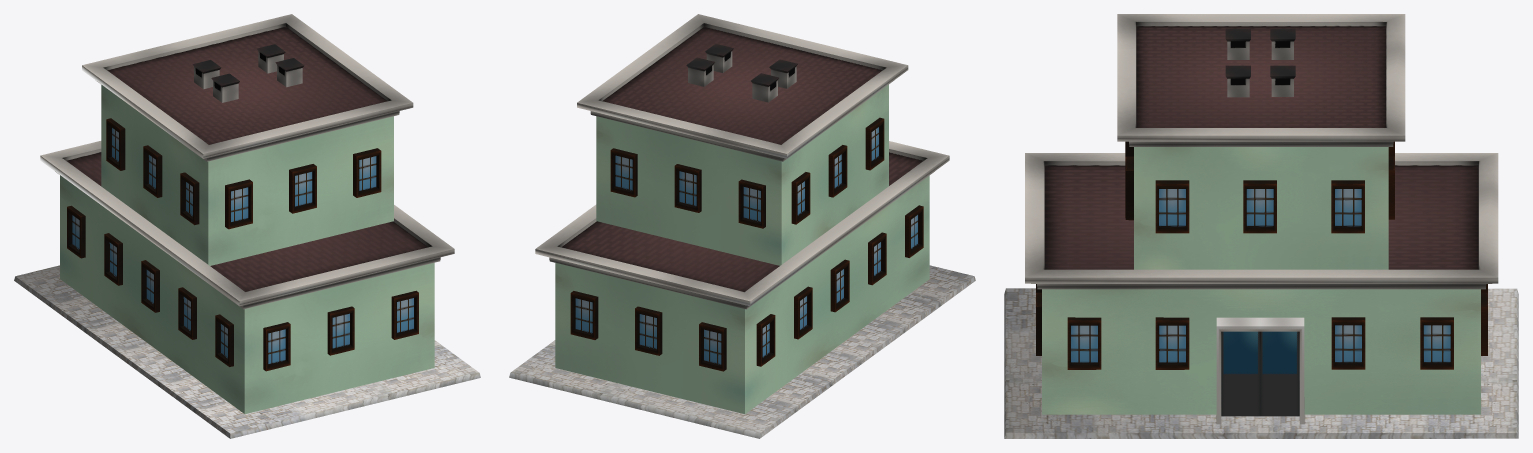
File: classic-building5.fbx
3 views of the same model, side by side, from view 1: azimuth 30°, elevation 25°; view 2: azimuth 150°, elevation 25°; view 3: azimuth 270°, elevation 25° (orthographic). The views are drawn at different scales.
Parts seen in each view (by area): view 1: wallls_cb, flat_roof2, wallls_cb_1, flat_roof, Group1, WINDOW_9, WINDOW_11, WINDOW_10, WINDOW_33, WINDOW_35, WINDOW_34, WINDOW_1 (+11 smaller); view 2: wallls_cb, flat_roof2, wallls_cb_1, flat_roof, Group1, WINDOW_29, WINDOW_27, WINDOW_28, WINDOW_5, WINDOW_3, WINDOW_4, WINDOW_1 (+11 smaller); view 3: wallls_cb, flat_roof2, flat_roof, wallls_cb_1, Group1, door_cb_1, door_cb, WINDOW_8, WINDOW_45, WINDOW_26, WINDOW_24, WINDOW_7 (+7 smaller).
Part boxes in pixels (box(x1,y1,x2,y2)): wallls_cb: box(60, 175, 434, 413); flat_roof2: box(82, 14, 413, 161); wallls_cb_1: box(101, 85, 393, 265); flat_roof: box(40, 141, 454, 309); Group1: box(14, 265, 480, 438); WINDOW_9: box(353, 148, 381, 197); WINDOW_11: box(225, 179, 252, 229); WINDOW_10: box(289, 164, 316, 213); WINDOW_33: box(327, 306, 354, 355); WINDOW_35: box(263, 322, 290, 371); WINDOW_34: box(391, 290, 418, 339); WINDOW_1: box(143, 145, 162, 197); wallls_cb: box(555, 175, 929, 413); flat_roof2: box(577, 14, 908, 161); wallls_cb_1: box(596, 84, 888, 265); flat_roof: box(535, 141, 949, 309); Group1: box(509, 265, 975, 438); WINDOW_29: box(570, 291, 598, 339); WINDOW_27: box(635, 306, 662, 355); WINDOW_28: box(699, 322, 726, 371); WINDOW_5: box(610, 148, 637, 197); WINDOW_3: box(738, 179, 765, 228); WINDOW_4: box(674, 164, 701, 212); WINDOW_1: box(828, 145, 847, 197); wallls_cb: box(1042, 289, 1480, 414); flat_roof2: box(1117, 14, 1405, 146); flat_roof: box(1025, 153, 1498, 289); wallls_cb_1: box(1134, 147, 1388, 269); Group1: box(1004, 288, 1518, 438); door_cb_1: box(1260, 317, 1304, 424); door_cb: box(1216, 317, 1260, 424); WINDOW_8: box(1155, 180, 1189, 233); WINDOW_45: box(1331, 317, 1365, 369); WINDOW_26: box(1067, 317, 1101, 369); WINDOW_24: box(1155, 317, 1189, 369); WINDOW_7: box(1243, 180, 1276, 233).
Bounding box in the file's own units: 781 × 787 × 1167.
6 materials, 6 textured.
